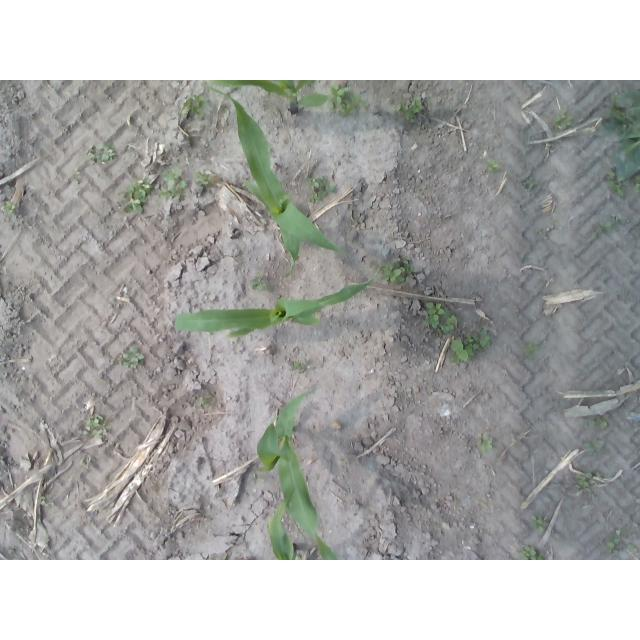Maize: (201, 82, 349, 279), (174, 268, 383, 338), (256, 388, 341, 560), (206, 80, 335, 113), (269, 490, 304, 560)
Weeds: (603, 89, 640, 183), (450, 329, 492, 364), (329, 83, 368, 118), (120, 178, 153, 215), (423, 301, 457, 336), (603, 529, 638, 556), (161, 166, 186, 200), (307, 176, 335, 205), (380, 259, 413, 283), (396, 96, 425, 123), (81, 415, 111, 440), (182, 93, 210, 119), (115, 348, 146, 369), (88, 142, 116, 163), (605, 171, 624, 198), (553, 109, 576, 131), (592, 221, 614, 239), (518, 545, 543, 560), (574, 471, 594, 489), (524, 343, 541, 362), (531, 516, 550, 533), (292, 360, 312, 376), (476, 434, 493, 452), (195, 171, 214, 187), (589, 415, 608, 430), (198, 394, 215, 410), (252, 273, 267, 291), (584, 440, 605, 452), (487, 160, 502, 173), (3, 201, 16, 215), (526, 177, 539, 188), (75, 168, 82, 185), (634, 174, 640, 192), (209, 554, 227, 560), (38, 495, 47, 506), (252, 477, 265, 484), (534, 227, 543, 235), (596, 472, 604, 480), (79, 459, 85, 466)
